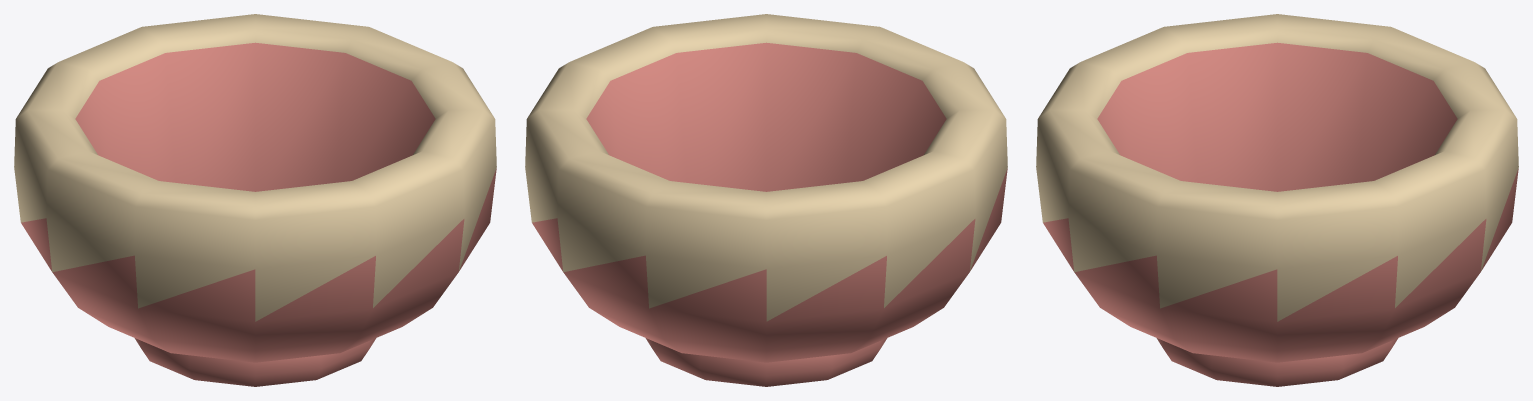
Rendered from itch_tiny_pleasant_picnic_bowl.glb.
The picture shows the model from 3 angles, left to right: view 1: azimuth 30°, elevation 25°; view 2: azimuth 150°, elevation 25°; view 3: azimuth 270°, elevation 25°; orthographic projection.
Visible parts, largest first — view 1: bowl; view 2: bowl; view 3: bowl.
Part boxes in pixels (x1=…): bowl: x1=14, y1=14, x2=496, y2=386; bowl: x1=525, y1=14, x2=1007, y2=386; bowl: x1=1036, y1=14, x2=1518, y2=386.
Size of the model in its own units: 0.42 by 0.2161 by 0.42.
